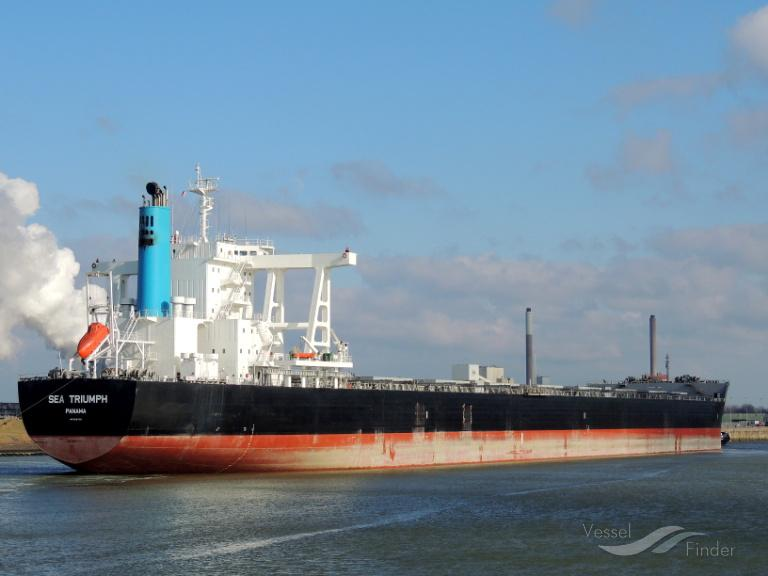OCR: (47, 386, 114, 419)
